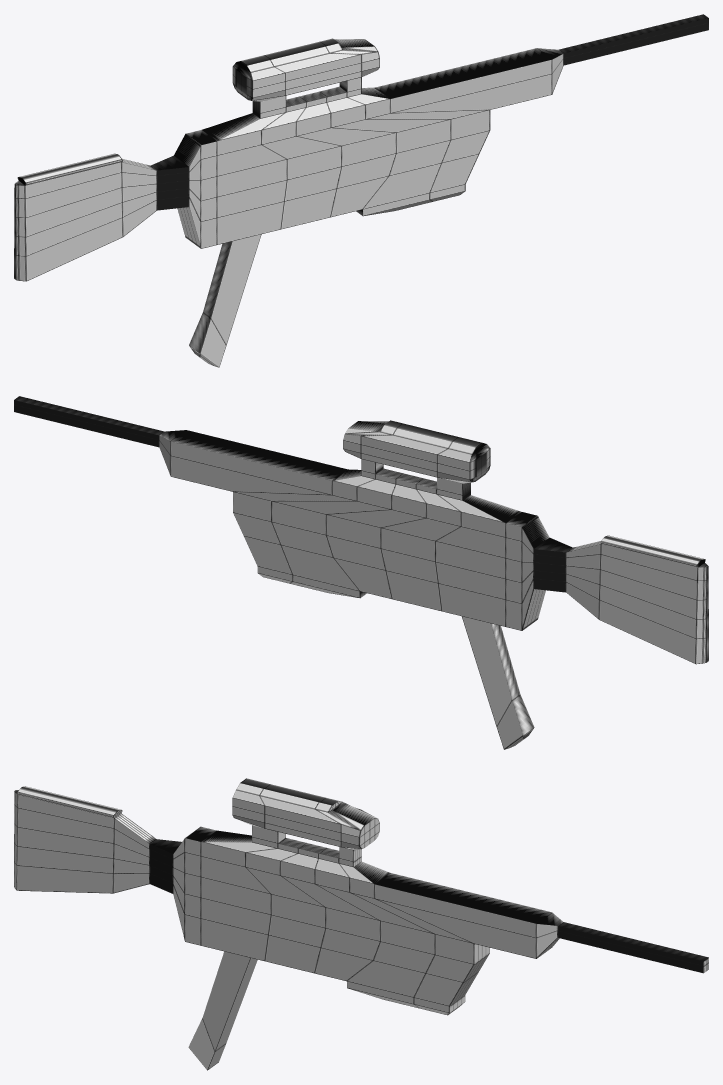
Rendered from VeryStrangeShit.fbx.
The picture shows the model from 3 angles, top to bottom: view 1: azimuth 30°, elevation 25°; view 2: azimuth 150°, elevation 25°; view 3: azimuth 330°, elevation 25°; orthographic projection.
Visible parts, largest first — view 1: Cube; view 2: Cube; view 3: Cube.
Part boxes in pixels (x1=…): Cube: x1=14, y1=14, x2=708, y2=367; Cube: x1=14, y1=396, x2=708, y2=749; Cube: x1=14, y1=778, x2=708, y2=1070.
Bounding box in the file's own units: 797 × 323 × 40.48.
